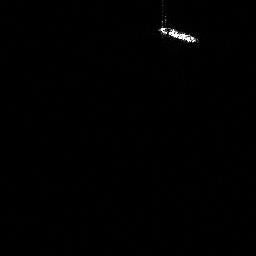ship: (153, 23, 202, 47)
